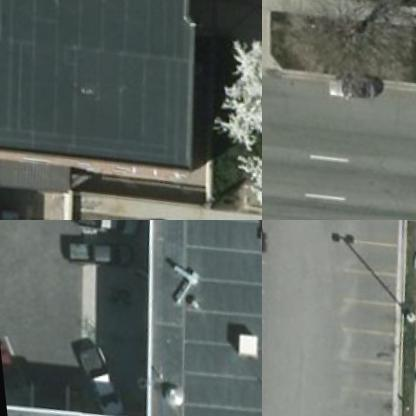car: (64, 337, 126, 415), (61, 236, 129, 274), (0, 333, 34, 398), (323, 67, 382, 101), (68, 220, 137, 236)
